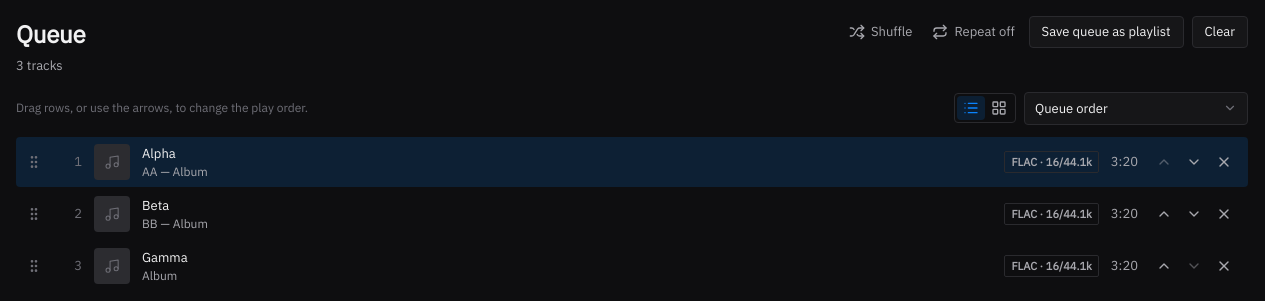
Scenario: QueueView › row actions › Clear empties the queue and stops
Click the button "Clear". click: (1220, 32)
box: [1192,16,1248,48]
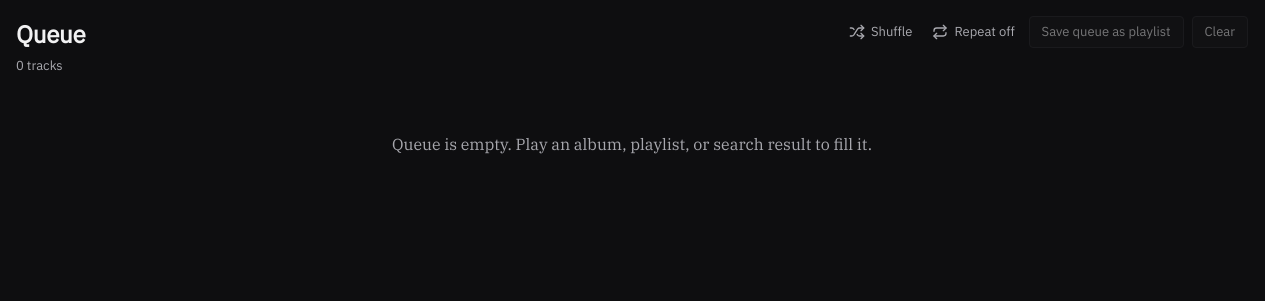
Expected: the text "Queue is empty" is shown, [392,134,872,154]
